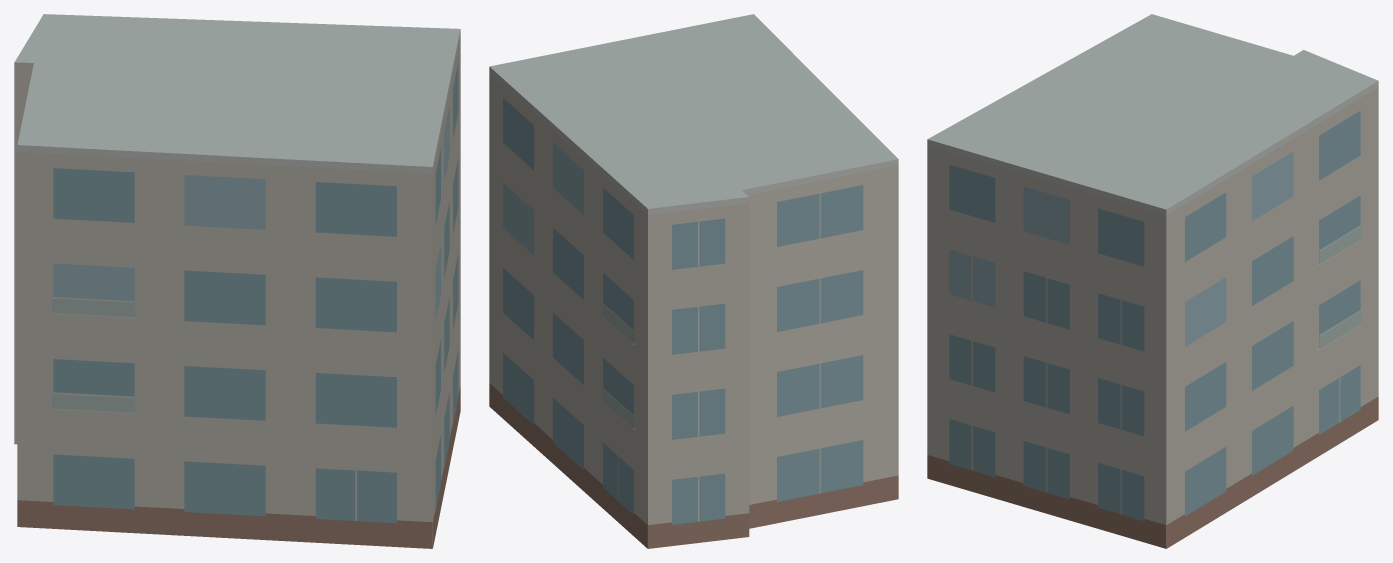
The model's file is survey-upis-32956372.glb.
3 views of the same model, side by side, from view 1: azimuth 30°, elevation 25°; view 2: azimuth 150°, elevation 25°; view 3: azimuth 270°, elevation 25° (orthographic). The views are drawn at different scales.
Visible parts, largest first — view 1: survey-upis-32956372.tmp; view 2: survey-upis-32956372.tmp; view 3: survey-upis-32956372.tmp.
Boxes of the visible parts, <box> form: survey-upis-32956372.tmp: <box>14,14,460,548</box>; survey-upis-32956372.tmp: <box>489,14,898,548</box>; survey-upis-32956372.tmp: <box>927,14,1378,548</box>.
Size of the model in its own units: 16.71 by 13.5 by 16.29.
